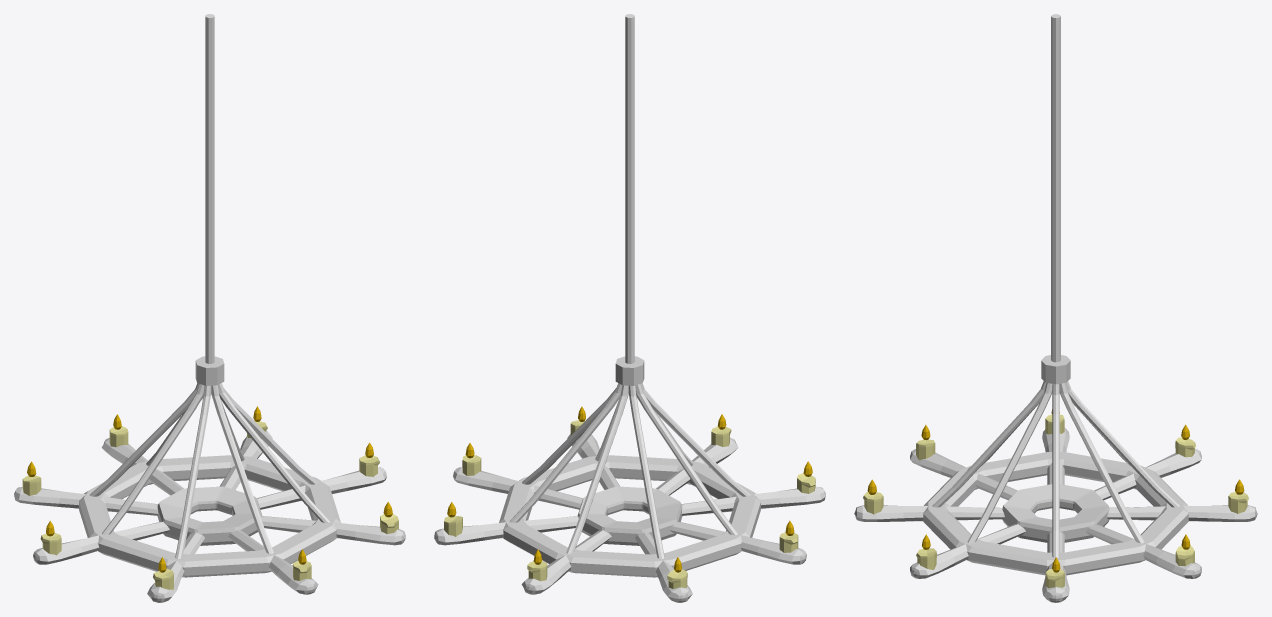
Rendered from chandelier.fbx.
The picture shows the model from 3 angles, left to right: view 1: azimuth 30°, elevation 25°; view 2: azimuth 150°, elevation 25°; view 3: azimuth 270°, elevation 25°; orthographic projection.
Parts seen in each view (by area): view 1: Circle, Circle.001, Cylinder.026, Cylinder.005, Cylinder.007, Cylinder.002, Cylinder, Cylinder.021, Cylinder.025, Cylinder.024, Cylinder.023, Cylinder.001 (+6 smaller); view 2: Circle, Circle.001, Cylinder.026, Cylinder.004, Cylinder.006, Cylinder.002, Cylinder, Cylinder.021, Cylinder.009, Cylinder.019, Cylinder.020, Cylinder.003 (+6 smaller); view 3: Circle, Circle.001, Cylinder.026, Cylinder.003, Cylinder.001, Cylinder.020, Cylinder.023, Cylinder.004, Cylinder.005, Cylinder.022, Cylinder.019, Cylinder.024 (+5 smaller).
Boxes of the visible parts, x1=… form: Circle: x1=79, y1=455, x2=340, y2=577; Circle.001: x1=157, y1=486, x2=262, y2=545; Cylinder.026: x1=205, y1=14, x2=214, y2=363; Cylinder.005: x1=261, y1=516, x2=405, y2=545; Cylinder.007: x1=14, y1=487, x2=158, y2=515; Cylinder.002: x1=33, y1=521, x2=169, y2=564; Cylinder: x1=256, y1=467, x2=386, y2=509; Cylinder.021: x1=102, y1=384, x2=204, y2=535; Cylinder.025: x1=175, y1=385, x2=211, y2=558; Cylinder.024: x1=211, y1=385, x2=273, y2=553; Cylinder.023: x1=217, y1=383, x2=330, y2=522; Cylinder.001: x1=228, y1=530, x2=318, y2=594; Circle: x1=499, y1=455, x2=760, y2=577; Circle.001: x1=577, y1=486, x2=682, y2=545; Cylinder.026: x1=625, y1=14, x2=634, y2=363; Cylinder.004: x1=434, y1=516, x2=578, y2=545; Cylinder.006: x1=681, y1=486, x2=825, y2=515; Cylinder.002: x1=670, y1=521, x2=806, y2=564; Cylinder: x1=453, y1=467, x2=583, y2=509; Cylinder.021: x1=635, y1=384, x2=737, y2=535; Cylinder.009: x1=628, y1=385, x2=664, y2=558; Cylinder.019: x1=566, y1=385, x2=628, y2=553; Cylinder.020: x1=509, y1=383, x2=622, y2=522; Cylinder.003: x1=521, y1=530, x2=611, y2=594; Circle: x1=923, y1=452, x2=1188, y2=575; Circle.001: x1=1002, y1=484, x2=1109, y2=542; Cylinder.026: x1=1051, y1=14, x2=1060, y2=362; Cylinder.003: x1=1107, y1=505, x2=1257, y2=521; Cylinder.001: x1=854, y1=505, x2=1004, y2=521; Cylinder.020: x1=1059, y1=383, x2=1144, y2=543; Cylinder.023: x1=967, y1=383, x2=1052, y2=543; Cylinder.004: x1=1086, y1=524, x2=1201, y2=578; Cylinder.005: x1=910, y1=524, x2=1025, y2=578; Cylinder.022: x1=1052, y1=384, x2=1059, y2=557; Cylinder.019: x1=1065, y1=381, x2=1179, y2=507; Cylinder.024: x1=932, y1=381, x2=1046, y2=507.
Size of the model in its own units: 4094 by 5664 by 4094.
